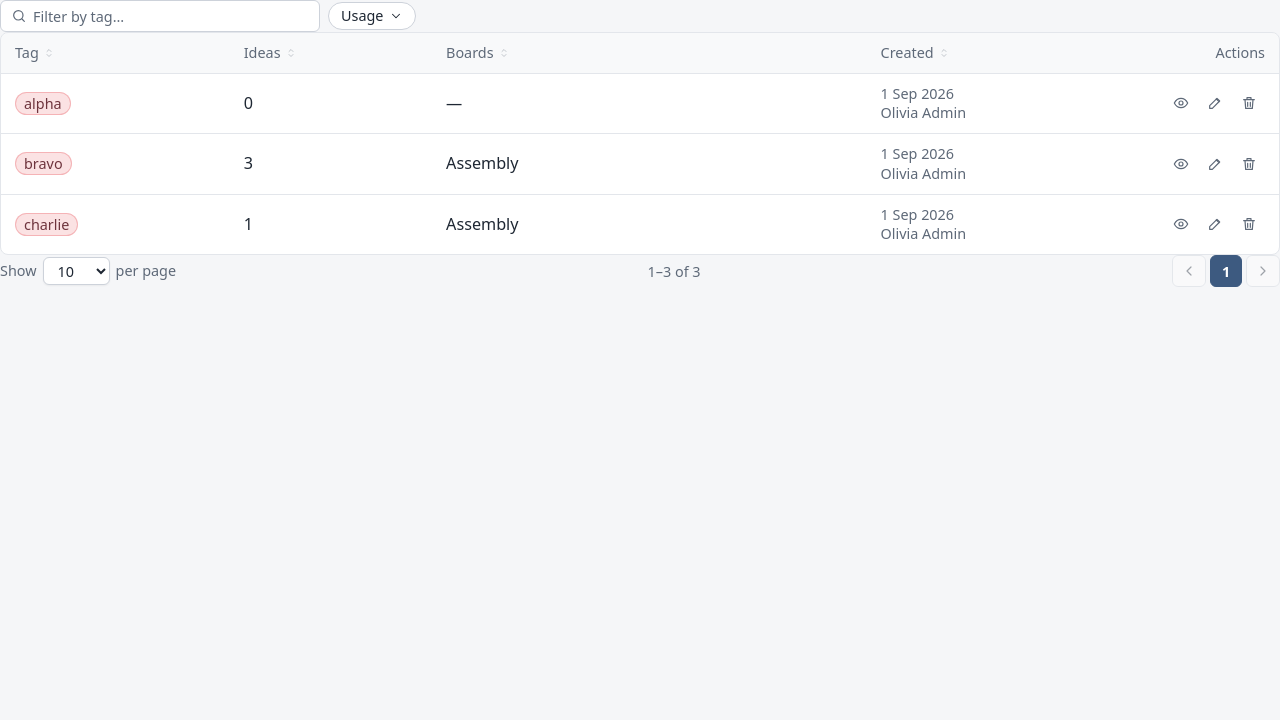
Test: Delete tag confirmation › says “1 idea”, not “1 ideas”
Click the button named "Delete charlie" at (1249, 224), box [1233,208,1265,240]
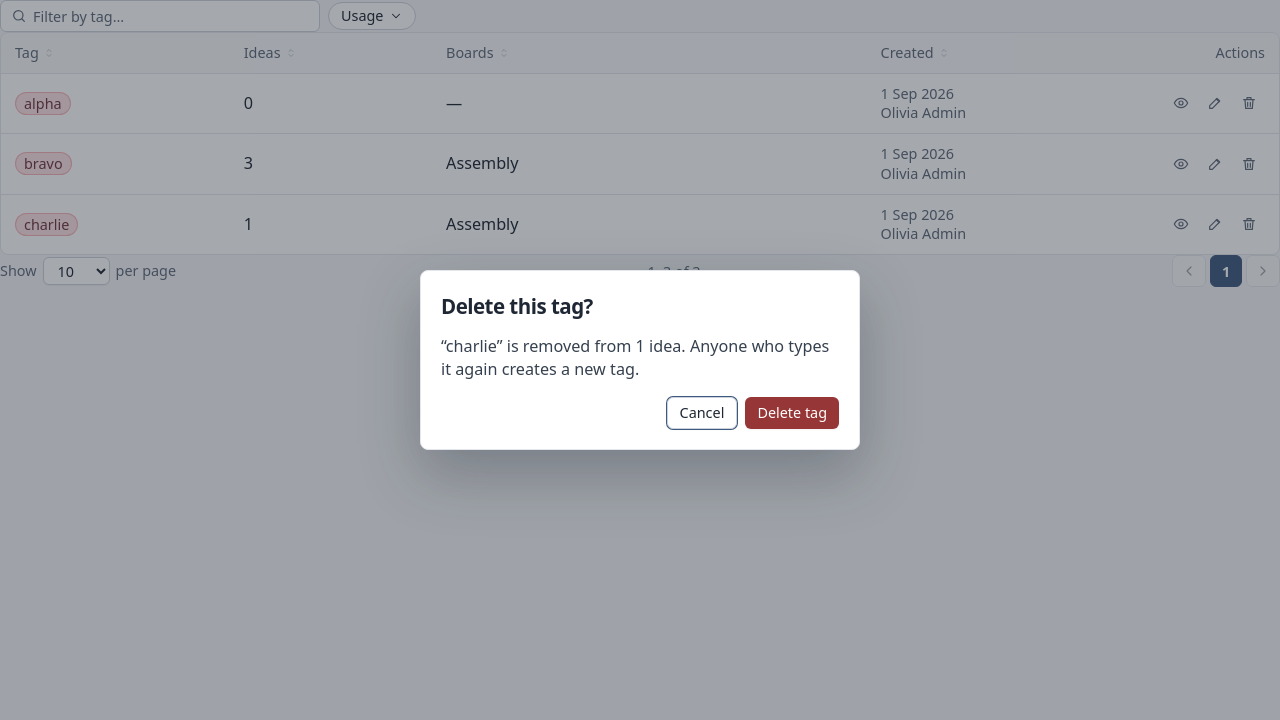
Expected: the dialog shows "is removed from 1 idea.", [441,335,829,380]
